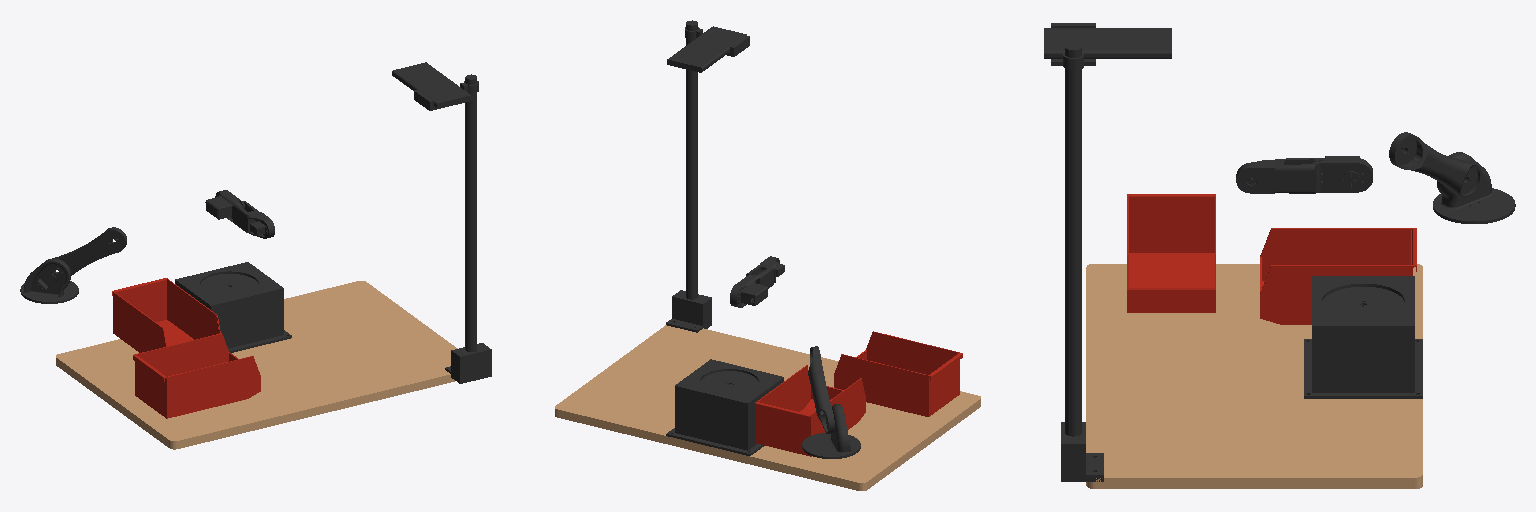
The robot description file, URDF, robot "robotic_arm":
<?xml version="1.0" ?>
<!-- =================================================================================== -->
<!-- |    This document was autogenerated by xacro from robotic_arm.xacro              | -->
<!-- |    EDITING THIS FILE BY HAND IS NOT RECOMMENDED                                 | -->
<!-- =================================================================================== -->
<robot name="robotic_arm">
  <material name="silver_default">
    <color rgba="0.700 0.700 0.700 1.000"/>
  </material>
  <material name="led_red">
    <color rgba="0.7686274509803922 0.20784313725490197 0.15294117647058825 1.0"/>
  </material>
  <material name="pa_12_nylon_pa_603cf_with_eos_p_3d_printers">
    <color rgba="0.24705882352941178 0.24705882352941178 0.24705882352941178 1.0"/>
  </material>
  <material name="oak">
    <color rgba="0.8157 0.6510 0.4902 1.0 "/>
  </material>
  <transmission name="base_waist_joint_tran">
    <type>transmission_interface/SimpleTransmission</type>
    <joint name="base_waist_joint">
      <hardwareInterface>hardware_interface/EffortJointInterface</hardwareInterface>
    </joint>
    <actuator name="base_waist_joint_actr">
      <hardwareInterface>hardware_interface/EffortJointInterface</hardwareInterface>
      <mechanicalReduction>1</mechanicalReduction>
    </actuator>
  </transmission>
  <transmission name="waist_link1_joint_tran">
    <type>transmission_interface/SimpleTransmission</type>
    <joint name="waist_link1_joint">
      <hardwareInterface>hardware_interface/EffortJointInterface</hardwareInterface>
    </joint>
    <actuator name="waist_link1_joint_actr">
      <hardwareInterface>hardware_interface/EffortJointInterface</hardwareInterface>
      <mechanicalReduction>1</mechanicalReduction>
    </actuator>
  </transmission>
  <transmission name="link1_link2_joint_tran">
    <type>transmission_interface/SimpleTransmission</type>
    <joint name="link1_link2_joint">
      <hardwareInterface>hardware_interface/EffortJointInterface</hardwareInterface>
    </joint>
    <actuator name="link1_link2_joint_actr">
      <hardwareInterface>hardware_interface/EffortJointInterface</hardwareInterface>
      <mechanicalReduction>1</mechanicalReduction>
    </actuator>
  </transmission>
  <transmission name="link2_gipper_base_joint_tran">
    <type>transmission_interface/SimpleTransmission</type>
    <joint name="link2_gipper_base_joint">
      <hardwareInterface>hardware_interface/EffortJointInterface</hardwareInterface>
    </joint>
    <actuator name="link2_gipper_base_joint_actr">
      <hardwareInterface>hardware_interface/EffortJointInterface</hardwareInterface>
      <mechanicalReduction>1</mechanicalReduction>
    </actuator>
  </transmission>
  <transmission name="right_gripper_joint_tran">
    <type>transmission_interface/SimpleTransmission</type>
    <joint name="right_gripper_joint">
      <hardwareInterface>hardware_interface/EffortJointInterface</hardwareInterface>
    </joint>
    <actuator name="right_gripper_joint_actr">
      <hardwareInterface>hardware_interface/EffortJointInterface</hardwareInterface>
      <mechanicalReduction>1</mechanicalReduction>
    </actuator>
  </transmission>
  <transmission name="left_gripper_joint_tran">
    <type>transmission_interface/SimpleTransmission</type>
    <joint name="left_gripper_joint">
      <hardwareInterface>hardware_interface/EffortJointInterface</hardwareInterface>
    </joint>
    <actuator name="left_gripper_joint_actr">
      <hardwareInterface>hardware_interface/EffortJointInterface</hardwareInterface>
      <mechanicalReduction>1</mechanicalReduction>
    </actuator>
  </transmission>
  <gazebo reference="base_link">
    <material>Gazebo/Wood</material>
    <mu1>0.2</mu1>
    <mu2>0.2</mu2>
    <self_collide>true</self_collide>
    <gravity>true</gravity>
  </gazebo>
  <gazebo reference="base">
    <material>Gazebo/FlatBlack</material>
    <mu1>0.2</mu1>
    <mu2>0.2</mu2>
    <self_collide>true</self_collide>
  </gazebo>
  <gazebo reference="waist">
    <material>Gazebo/FlatBlack</material>
    <mu1>0.2</mu1>
    <mu2>0.2</mu2>
    <self_collide>true</self_collide>
  </gazebo>
  <gazebo reference="link_1">
    <material>Gazebo/FlatBlack</material>
    <mu1>0.2</mu1>
    <mu2>0.2</mu2>
    <self_collide>true</self_collide>
  </gazebo>
  <gazebo reference="link_2">
    <material>Gazebo/FlatBlack</material>
    <mu1>0.2</mu1>
    <mu2>0.2</mu2>
    <self_collide>true</self_collide>
  </gazebo>
  <gazebo reference="gripper_base">
    <material>Gazebo/FlatBlack</material>
    <mu1>0.2</mu1>
    <mu2>0.2</mu2>
    <self_collide>true</self_collide>
  </gazebo>
  <gazebo reference="gripper_finger_1">
    <material>Gazebo/Blue</material>
    <mu1>0.2</mu1>
    <mu2>0.2</mu2>
    <self_collide>true</self_collide>
  </gazebo>
  <gazebo reference="gripper_finger_2">
    <material>Gazebo/Blue</material>
    <mu1>0.2</mu1>
    <mu2>0.2</mu2>
    <self_collide>true</self_collide>
  </gazebo>
  <gazebo reference="camera_support">
    <material>Gazebo/WoodFloor</material>
    <mu1>0.2</mu1>
    <mu2>0.2</mu2>
    <self_collide>true</self_collide>
  </gazebo>
  <gazebo reference="container_cubes">
    <material>Gazebo/Red</material>
    <mu1>0.2</mu1>
    <mu2>0.2</mu2>
    <self_collide>true</self_collide>
  </gazebo>
  <gazebo reference="container_cylinders">
    <material>Gazebo/Red</material>
    <mu1>0.2</mu1>
    <mu2>0.2</mu2>
    <self_collide>true</self_collide>
  </gazebo>
  <gazebo reference="container_hexagons">
    <material>Gazebo/Red</material>
    <mu1>0.2</mu1>
    <mu2>0.2</mu2>
    <self_collide>true</self_collide>
  </gazebo>
  <ros2_control name="RoboticArmSystem" type="system">
    <hardware>
      <plugin>gazebo_ros2_control/GazeboSystem</plugin>
    </hardware>
    <!-- Interfaces -->
    <joint name="base_waist_joint">
      <command_interface name="position">
        <param name="min">-1.570795</param>
        <param name="max">1.570795</param>
      </command_interface>
      <state_interface name="position"/>
    </joint>
    <joint name="waist_link1_joint">
      <command_interface name="position">
        <param name="min">-1.570795</param>
        <param name="max">1.570795</param>
      </command_interface>
      <state_interface name="position"/>
    </joint>
    <joint name="link1_link2_joint">
      <command_interface name="position">
        <param name="min">0,0</param>
        <param name="max">3.14159</param>
      </command_interface>
      <state_interface name="position"/>
    </joint>
    <joint name="link2_gripper_base_joint">
      <command_interface name="position">
        <param name="min">-1.570795</param>
        <param name="max">1.570795</param>
      </command_interface>
      <state_interface name="position"/>
    </joint>
    <joint name="right_gripper_joint">
      <command_interface name="position">
        <param name="min">0.0</param>
        <param name="max">0.7854</param>
      </command_interface>
      <state_interface name="position"/>
    </joint>
    <joint name="left_gripper_joint">
      <param name="mimic">right_gripper_joint</param>
      <param name="multiplier">-1</param>
      <command_interface name="position">
        <param name="min">-0.7854</param>
        <param name="max">0.0</param>
      </command_interface>
      <state_interface name="position"/>
    </joint>
  </ros2_control>
  <gazebo>
    <plugin filename="libgazebo_ros2_control.so" name="gazebo_ros2_control">
      <parameters>[local-path]/ai_based_sorting_robot_arm/install/robotic_arm_controllers/share/robotic_arm_controllers/config/robot_arm_controllers.yaml</parameters>
    </plugin>
  </gazebo>
  <!-- Links -->
  <link name="world"/>
  <link name="base_link">
    <inertial>
      <origin rpy="0 0 0" xyz="2.5964963671146073e-05 -0.12750519341019426 0.02735001860163422"/>
      <mass value="2.562361438794821"/>
      <inertia ixx="0.033829" ixy="-2e-06" ixz="-0.0" iyy="0.076749" iyz="0.0" izz="0.110468"/>
    </inertial>
    <visual>
      <origin rpy="0 0 0" xyz="0 0 0"/>
      <geometry>
        <mesh filename="package://robotic_arm_description/meshes/base_link.stl" scale="0.001 0.001 0.001"/>
      </geometry>
      <material name="oak"/>
    </visual>
    <collision>
      <origin rpy="0 0 0" xyz="0 0 0"/>
      <geometry>
        <mesh filename="package://robotic_arm_description/meshes/base_link.stl" scale="0.001 0.001 0.001"/>
      </geometry>
    </collision>
  </link>
  <link name="container_cubes">
    <inertial>
      <origin rpy="0 0 0" xyz="0.0021344768560282723 -1.5647124724599282e-05 0.026103286200414536"/>
      <mass value="0.8859344258495231"/>
      <inertia ixx="0.002047" ixy="1e-06" ixz="0.000223" iyy="0.003759" iyz="0.0" izz="0.004728"/>
    </inertial>
    <visual>
      <origin rpy="0 0 0" xyz="0.2025 0.225 -0.035"/>
      <geometry>
        <mesh filename="package://robotic_arm_description/meshes/container_cubes.stl" scale="0.001 0.001 0.001"/>
      </geometry>
      <material name="led_red"/>
    </visual>
    <collision>
      <origin rpy="0 0 0" xyz="0.2025 0.225 -0.035"/>
      <geometry>
        <mesh filename="package://robotic_arm_description/meshes/container_cubes.stl" scale="0.001 0.001 0.001"/>
      </geometry>
    </collision>
  </link>
  <link name="container_cylinders">
    <inertial>
      <origin rpy="0 0 0" xyz="-1.565155782010108e-05 -0.0021344802460424653 0.026103286200414424"/>
      <mass value="0.8859344258495231"/>
      <inertia ixx="0.003759" ixy="-1e-06" ixz="0.0" iyy="0.002047" iyz="-0.000223" izz="0.004728"/>
    </inertial>
    <visual>
      <origin rpy="0 0 0" xyz="0.2425 0.02 -0.035"/>
      <geometry>
        <mesh filename="package://robotic_arm_description/meshes/container_cylinders.stl" scale="0.001 0.001 0.001"/>
      </geometry>
      <material name="led_red"/>
    </visual>
    <collision>
      <origin rpy="0 0 0" xyz="0.2425 0.02 -0.035"/>
      <geometry>
        <mesh filename="package://robotic_arm_description/meshes/container_cylinders.stl" scale="0.001 0.001 0.001"/>
      </geometry>
    </collision>
  </link>
  <link name="container_hexagons">
    <inertial>
      <origin rpy="0 0 0" xyz="-1.565155782010108e-05 -0.0021344802460424445 0.0261032862004145"/>
      <mass value="0.8859344258495231"/>
      <inertia ixx="0.003759" ixy="-1e-06" ixz="0.0" iyy="0.002047" iyz="-0.000223" izz="0.004728"/>
    </inertial>
    <visual>
      <origin rpy="0 0 0" xyz="0.1375 0.02 -0.035"/>
      <geometry>
        <mesh filename="package://robotic_arm_description/meshes/container_hexagons.stl" scale="0.001 0.001 0.001"/>
      </geometry>
      <material name="led_red"/>
    </visual>
    <collision>
      <origin rpy="0 0 0" xyz="0.1375 0.02 -0.035"/>
      <geometry>
        <mesh filename="package://robotic_arm_description/meshes/container_hexagons.stl" scale="0.001 0.001 0.001"/>
      </geometry>
    </collision>
  </link>
  <link name="camera_support">
    <inertial>
      <origin rpy="0 0 0" xyz="8.696769445861888e-16 -0.01380572988450951 0.19182498575975282"/>
      <mass value="1.9073849170892592"/>
      <inertia ixx="0.059599" ixy="-0.0" ixz="0.0" iyy="0.059727" iyz="0.000448" izz="0.000405"/>
    </inertial>
    <visual>
      <origin rpy="0 0 0" xyz="-0.0 0.325 -0.02"/>
      <geometry>
        <mesh filename="package://robotic_arm_description/meshes/camera_support.stl" scale="0.001 0.001 0.001"/>
      </geometry>
      <material name="pa_12_nylon_pa_603cf_with_eos_p_3d_printers"/>
    </visual>
    <collision>
      <origin rpy="0 0 0" xyz="-0.0 0.325 -0.02"/>
      <geometry>
        <mesh filename="package://robotic_arm_description/meshes/camera_support.stl" scale="0.001 0.001 0.001"/>
      </geometry>
    </collision>
  </link>
  <link name="base">
    <inertial>
      <origin rpy="0 0 0" xyz="6.051376774735407e-07 -0.08000032966587473 0.05136562059426733"/>
      <mass value="0.5102582987586253"/>
      <inertia ixx="0.00162" ixy="-0.0" ixz="0.0" iyy="0.001541" iyz="-0.0" izz="0.002267"/>
    </inertial>
    <visual>
      <origin rpy="0 0 0" xyz="-0.0 -0.07 -0.035"/>
      <geometry>
        <mesh filename="package://robotic_arm_description/meshes/base.stl" scale="0.001 0.001 0.001"/>
      </geometry>
      <material name="pa_12_nylon_pa_603cf_with_eos_p_3d_printers"/>
    </visual>
    <collision>
      <origin rpy="0 0 0" xyz="-0.0 -0.07 -0.035"/>
      <geometry>
        <mesh filename="package://robotic_arm_description/meshes/base.stl" scale="0.001 0.001 0.001"/>
      </geometry>
    </collision>
  </link>
  <link name="waist">
    <inertial>
      <origin rpy="0 0 0" xyz="-0.013899791072812993 -0.0032841190361416073 0.023721429685911427"/>
      <mass value="0.11734363935702768"/>
      <inertia ixx="8.6e-05" ixy="-3e-06" ixz="1.4e-05" iyy="7.9e-05" iyz="1.1e-05" izz="8.5e-05"/>
    </inertial>
    <visual>
      <origin rpy="0 0 0" xyz="0.0 0.01 -0.121"/>
      <geometry>
        <mesh filename="package://robotic_arm_description/meshes/waist.stl" scale="0.001 0.001 0.001"/>
      </geometry>
      <material name="pa_12_nylon_pa_603cf_with_eos_p_3d_printers"/>
    </visual>
    <collision>
      <origin rpy="0 0 0" xyz="0.0 0.01 -0.121"/>
      <geometry>
        <mesh filename="package://robotic_arm_description/meshes/waist.stl" scale="0.001 0.001 0.001"/>
      </geometry>
    </collision>
  </link>
  <link name="link_1">
    <inertial>
      <origin rpy="0 0 0" xyz="0.007817729878360883 -4.041924911227235e-07 0.06000021649587681"/>
      <mass value="0.07112302510728019"/>
      <inertia ixx="0.000121" ixy="0.0" ixz="0.0" iyy="0.000116" iyz="-0.0" izz="1e-05"/>
    </inertial>
    <visual>
      <origin rpy="0 0 0" xyz="0.001 0.024069 -0.161262"/>
      <geometry>
        <mesh filename="package://robotic_arm_description/meshes/link_1.stl" scale="0.001 0.001 0.001"/>
      </geometry>
      <material name="pa_12_nylon_pa_603cf_with_eos_p_3d_printers"/>
    </visual>
    <collision>
      <origin rpy="0 0 0" xyz="0.001 0.024069 -0.161262"/>
      <geometry>
        <mesh filename="package://robotic_arm_description/meshes/link_1.stl" scale="0.001 0.001 0.001"/>
      </geometry>
    </collision>
  </link>
  <link name="link_2">
    <inertial>
      <origin rpy="0 0 0" xyz="-0.015945401802956827 -0.04619383654620061 4.672518474435616e-05"/>
      <mass value="0.11456681455688399"/>
      <inertia ixx="0.000224" ixy="2.7e-05" ixz="-0.0" iyy="2.7e-05" iyz="0.0" izz="0.00023"/>
    </inertial>
    <visual>
      <origin rpy="0 0 0" xyz="0.001 0.024069 -0.281262"/>
      <geometry>
        <mesh filename="package://robotic_arm_description/meshes/link_2.stl" scale="0.001 0.001 0.001"/>
      </geometry>
      <material name="pa_12_nylon_pa_603cf_with_eos_p_3d_printers"/>
    </visual>
    <collision>
      <origin rpy="0 0 0" xyz="0.001 0.024069 -0.281262"/>
      <geometry>
        <mesh filename="package://robotic_arm_description/meshes/link_2.stl" scale="0.001 0.001 0.001"/>
      </geometry>
    </collision>
  </link>


  <link name="gripper_base">
    <inertial>
      <origin rpy="0 0 0" xyz="0.016989765812987632 -0.030975366550403616 0.004301084726513138"/>
      <mass value="0.02850874527831614"/>
      <inertia ixx="1e-05" ixy="3e-06" ixz="1e-06" iyy="7e-06" iyz="1e-06" izz="1.4e-05"/>
    </inertial>
    <visual>
      <origin rpy="0 0 0" xyz="-0.00285 0.141419 -0.281562"/>
      <geometry>
        
        <box size="0.08 0.01 0.01"/>
        <!-- <mesh filename="package://robotic_arm_description/meshes/gripper_base.stl" scale="0.001 0.001 0.001"/> -->
      </geometry>
      <material name="led_red"/>
    </visual>
    <collision>
      <origin rpy="0 0 0" xyz="-0.00285 0.141419 -0.281562"/>
      <geometry>

        <box size="0.08 0.01 0.01"/>
        <!-- <mesh filename="package://robotic_arm_description/meshes/gripper_base.stl" scale="0.001 0.001 0.001"/> -->
      </geometry>
    </collision>
  </link>

  <link name = "end_effector">
  </link>

<!-- 
  <link name="gripper_finger_1">
    <inertial>
      <origin rpy="0 0 0" xyz="0.0025925452739234515 -0.04003700713978928 0.0020003926156425544"/>
      <mass value="0.00844478254120791"/>
      <inertia ixx="7e-06" ixy="1e-06" ixz="0.0" iyy="0.0" iyz="-0.0" izz="8e-06"/>
    </inertial>
    <visual>
      <origin rpy="0 0 0" xyz="-0.02875 0.179419 -0.295562"/>
      <geometry>
        <mesh filename="package://robotic_arm_description/meshes/gripper_finger_1.stl" scale="0.001 0.001 0.001"/>
      </geometry>
      <material name="pa_12_nylon_pa_603cf_with_eos_p_3d_printers"/>
    </visual>
    <collision>
      <origin rpy="0 0 0" xyz="-0.02875 0.179419 -0.295562"/>
      <geometry>
        <mesh filename="package://robotic_arm_description/meshes/gripper_finger_1.stl" scale="0.001 0.001 0.001"/>
      </geometry>
    </collision>
  </link>


  <link name="gripper_finger_2">
    <inertial>
      <origin rpy="0 0 0" xyz="-0.002592545273924804 -0.04003700713978928 0.002000392615642499"/>
      <mass value="0.00844478254120791"/>
      <inertia ixx="7e-06" ixy="-1e-06" ixz="-0.0" iyy="0.0" iyz="-0.0" izz="8e-06"/>
    </inertial>
    <visual>
      <origin rpy="0 0 0" xyz="-0.00185 0.179419 -0.295562"/>
      <geometry>
        <mesh filename="package://robotic_arm_description/meshes/gripper_finger_2.stl" scale="0.001 0.001 0.001"/>
      </geometry>
      <material name="pa_12_nylon_pa_603cf_with_eos_p_3d_printers"/>
    </visual>
    <collision>
      <origin rpy="0 0 0" xyz="-0.00185 0.179419 -0.295562"/>
      <geometry>
        <mesh filename="package://robotic_arm_description/meshes/gripper_finger_2.stl" scale="0.001 0.001 0.001"/>
      </geometry>
    </collision>
  </link> -->


  <!-- Joints -->
  <joint name="virtual_joint" type="fixed">
    <parent link="world"/>
    <child link="base_link"/>
  </joint>
  <joint name="rigid_1" type="fixed">
    <origin rpy="0 0 0" xyz="0.0 0.07 0.035"/>
    <parent link="base_link"/>
    <child link="base"/>
  </joint>
  <joint name="rigid_2" type="fixed">
    <origin rpy="0 0 0" xyz="-0.2025 -0.225 0.035"/>
    <parent link="base_link"/>
    <child link="container_cubes"/>
  </joint>
  <joint name="rigid_3" type="fixed">
    <origin rpy="0 0 0" xyz="-0.2425 -0.02 0.035"/>
    <parent link="base_link"/>
    <child link="container_cylinders"/>
  </joint>
  <joint name="rigid_4" type="fixed">
    <origin rpy="0 0 0" xyz="-0.1375 -0.02 0.035"/>
    <parent link="base_link"/>
    <child link="container_hexagons"/>
  </joint>
  <joint name="rigid_5" type="fixed">
    <origin rpy="0 0 0" xyz="0.0 -0.325 0.02"/>
    <parent link="base_link"/>
    <child link="camera_support"/>
  </joint>
  <joint name="base_waist_joint" type="revolute">
    <origin rpy="0 0 0" xyz="-0.0 -0.08 0.086"/>
    <parent link="base"/>
    <child link="waist"/>
    <axis xyz="-0.0 -0.0 1.0"/>
    <limit effort="100" lower="-1.570796" upper="1.570796" velocity="100"/>
  </joint>
  <joint name="waist_link1_joint" type="revolute">
    <origin rpy="0 0 0" xyz="-0.001 -0.014069 0.040262"/>
    <parent link="waist"/>
    <child link="link_1"/>
    <axis xyz="1.0 0.0 -0.0"/>
    <limit effort="100" lower="-1.570796" upper="1.570796" velocity="100"/>
  </joint>
  <joint name="link1_link2_joint" type="revolute">
    <origin rpy="0 0 0" xyz="0.0 0.0 0.12"/>
    <parent link="link_1"/>
    <child link="link_2"/>
    <axis xyz="1.0 -0.0 -0.0"/>
    <limit effort="100" lower="-1.570796" upper="1.570796" velocity="100"/>
  </joint>
  <joint name="link2_gripper_base_joint" type="revolute">
    <origin rpy="0 0 0" xyz="0.00385 -0.11735 0.0003"/>
    <parent link="link_2"/>
    <child link="gripper_base"/>
    <axis xyz="1.0 -0.0 0.0"/>
    <limit effort="100" lower="-1.570796" upper="1.570796" velocity="100"/>
  </joint>

  <joint name = "end_effector_link" type="fixed">
    <origin rpy="0 0 0" xyz=" 0 -0.08 0 "/>
    <parent link="gripper_base"/>
    <child link="end_effector"/>
  </joint>
  


  <!-- <joint name="right_gripper_joint" type="revolute">
    <origin rpy="0 0 0" xyz="0.0259 -0.038 0.014"/>
    <parent link="gripper_base"/>
    <child link="gripper_finger_1"/>
    <axis xyz="-0.0 0.0 1.0"/>
    <limit effort="100" lower="0.0" upper="1.047198" velocity="100"/>
  </joint>
  <joint name="left_gripper_joint" type="revolute">
    <origin rpy="0 0 0" xyz="-0.001 -0.038 0.014"/>
    <parent link="gripper_base"/>
    <child link="gripper_finger_2"/>
    <axis xyz="-0.0 0.0 1.0"/>
    <dynamics damping="10.0" friction="2.0"/>
    <limit effort="100" lower="-1.047198" upper="0.0" velocity="100"/>
    <mimic joint="right_gripper_joint" multiplier="-1"/>
  </joint> -->

</robot>

--- Facts derived from the render (not from the file) ---
3 views of the same robot in one strip: view 1: azimuth 30°, elevation 25°; view 2: azimuth 150°, elevation 25°; view 3: azimuth 270°, elevation 25° (orthographic).
Model robotic_arm with 12 links and 11 joints (4 revolute, 7 fixed), rooted at world, posed every joint at zero.
Links seen in each view (by area): view 1: base_link, container_cubes, camera_support, base, container_hexagons, waist, link_2, link_1; view 2: base_link, container_cubes, base, camera_support, container_hexagons, waist, link_2, link_1; view 3: base_link, base, camera_support, container_cubes, container_hexagons, link_2, link_1, waist.
Boxes of the visible links, box(x1,y1,x2,y2) form: base_link: box(56, 281, 457, 449); container_cubes: box(133, 333, 260, 418); camera_support: box(392, 62, 491, 383); base: box(175, 262, 291, 352); container_hexagons: box(112, 278, 220, 352); waist: box(20, 259, 78, 303); link_2: box(205, 190, 274, 238); link_1: box(52, 227, 126, 276); base_link: box(555, 325, 980, 490); container_cubes: box(834, 331, 962, 416); base: box(666, 359, 783, 455); camera_support: box(666, 20, 749, 332); container_hexagons: box(755, 365, 865, 456); waist: box(802, 404, 860, 458); link_2: box(730, 256, 784, 307); link_1: box(808, 346, 834, 433); base_link: box(1086, 264, 1422, 488); base: box(1304, 276, 1422, 398); camera_support: box(1044, 23, 1171, 481); container_cubes: box(1127, 194, 1215, 312); container_hexagons: box(1260, 228, 1416, 324); link_2: box(1236, 156, 1372, 193); link_1: box(1389, 132, 1481, 197); waist: box(1433, 152, 1515, 223).
Bounding box of the posed robot: 0.616 × 0.5528 × 0.564 m (x, y, z).
8 mesh visuals loaded from 9 distinct referenced files (8 binary STL); not drawn: 1 (reference not matched to a file when rendering).